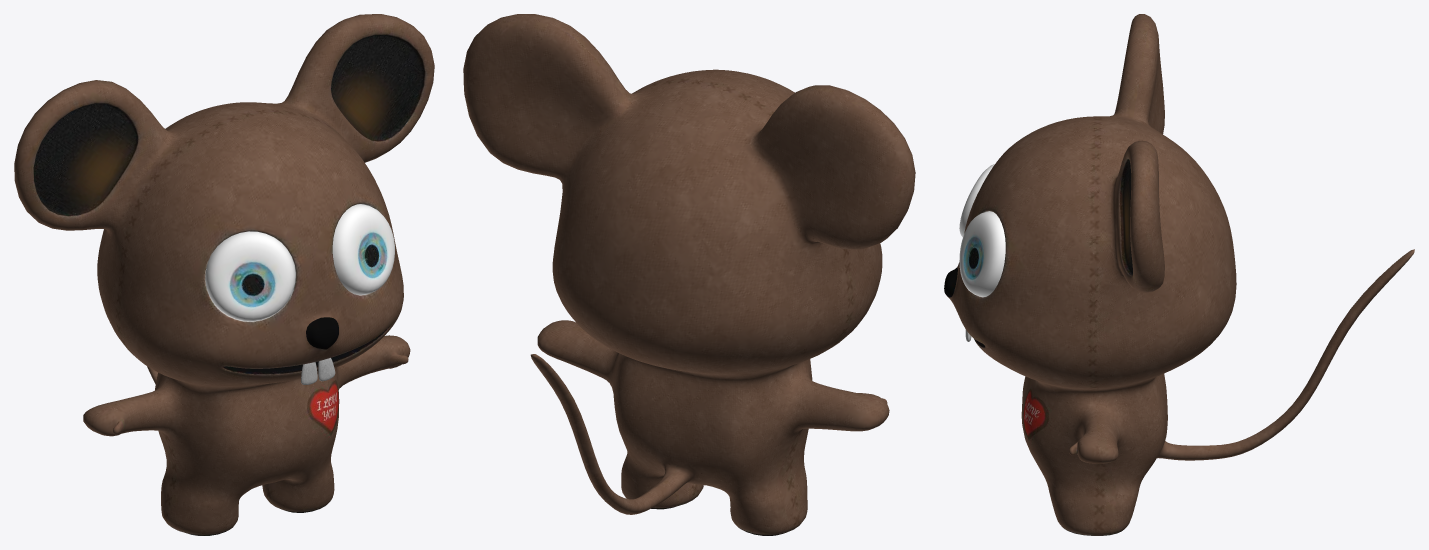
File: lil_mouse.glb
The picture shows the model from 3 angles, left to right: view 1: azimuth 30°, elevation 25°; view 2: azimuth 150°, elevation 25°; view 3: azimuth 270°, elevation 25°; orthographic projection. The views are drawn at different scales.
Parts seen in each view (by area): view 1: Cube, Cube.002; view 2: Cube; view 3: Cube.
Boxes of the visible parts, x1,y1,x2,y2 form: Cube: [14, 14, 434, 535]; Cube.002: [301, 358, 335, 384]; Cube: [463, 14, 915, 535]; Cube: [944, 14, 1414, 535].
Size of the model in its own units: 890 by 908 by 920.
2 materials, 2 textured.
